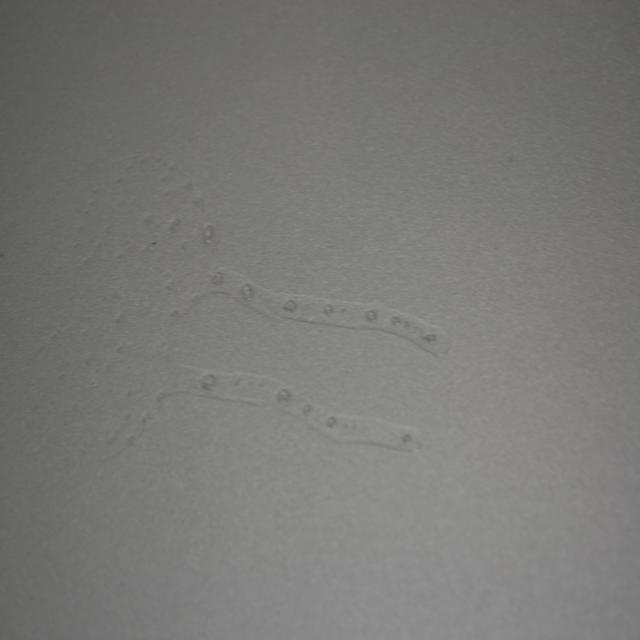runs: (69, 136, 452, 453)
